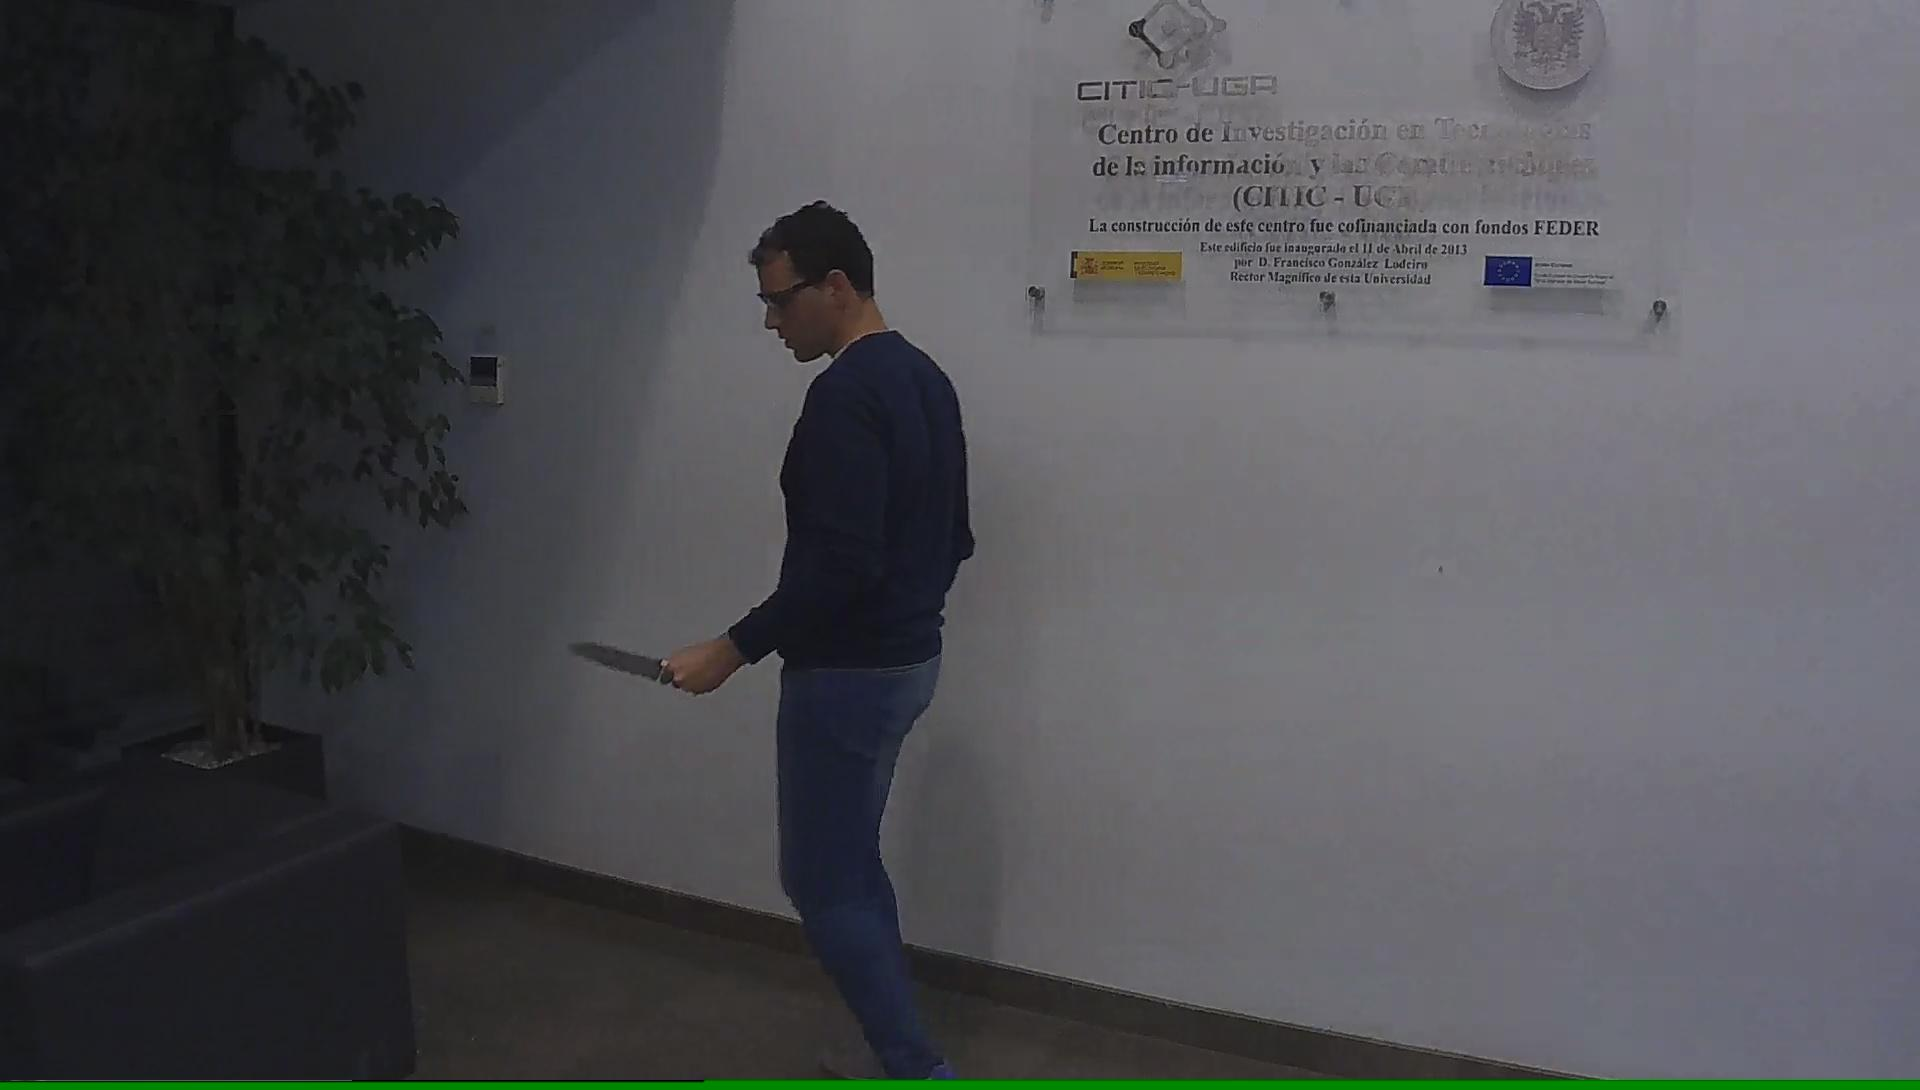criminal: (571, 200, 975, 1078)
weapon: (568, 638, 682, 687)
